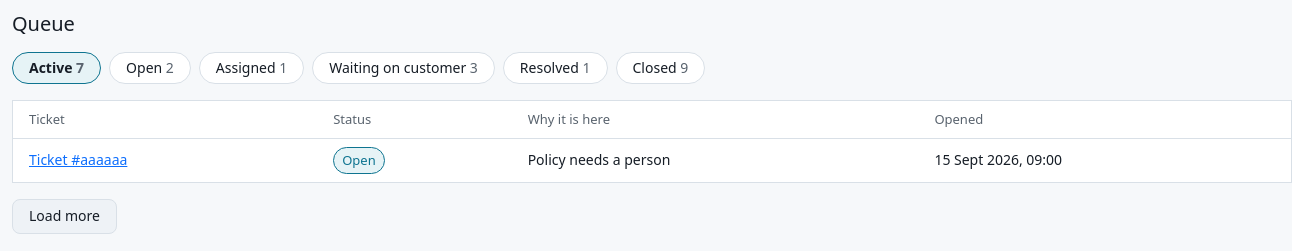
Test: QueuePage › more tickets load after the last one, by cursor
Check: the link "Ticket #aaaaaa" is shown, box [29, 150, 127, 169]
Click the button "Load more". click: [64, 216]
box: [12, 199, 117, 234]
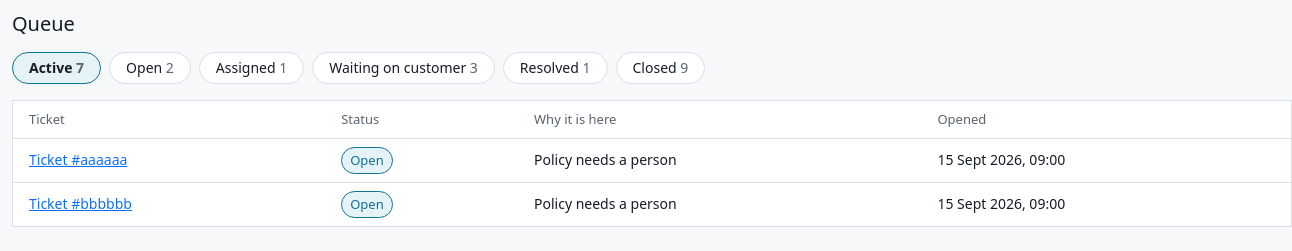
Check: the link "Ticket #aaaaaa" is shown, box [29, 150, 127, 169]
Check: the link "Ticket #bbbbbb" is shown, box [29, 194, 132, 213]
Check: the button "Load more" is gone
